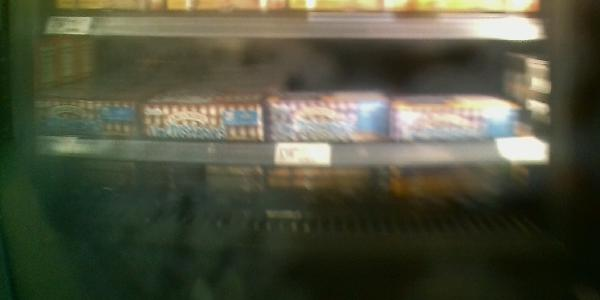icecream: (390, 94, 526, 148), (266, 95, 389, 145), (30, 90, 142, 141), (143, 96, 267, 142)
